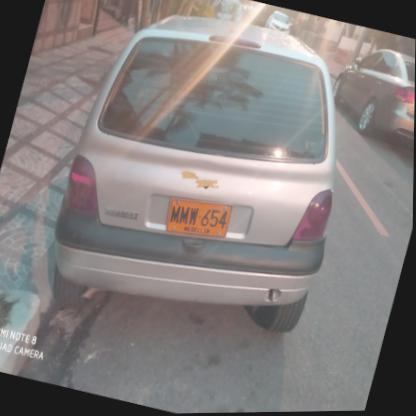placa: (159, 190, 238, 248)
